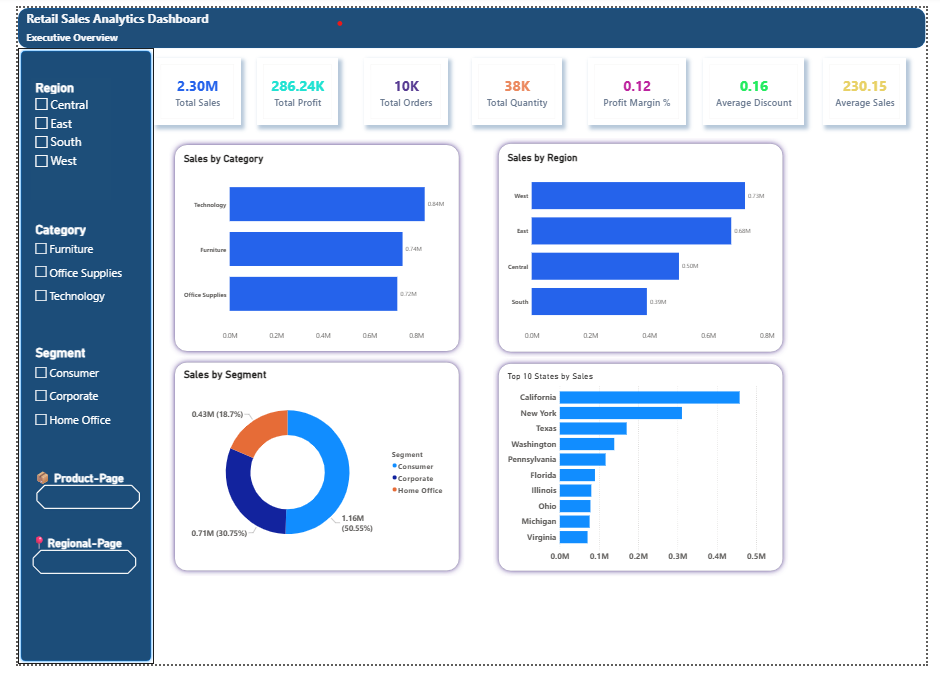

Layout of this report page (visuals, bound fields, positions):
{"tool":"powerbi","page":{"name":"🏠 Executive Overview","canvas":[2420,1750],"ordinal":0},"visuals":[{"type":"shape","box":[0,107.5,362.5,1642.5],"z":0},{"type":"shape","box":[0,0,2420,107.5],"z":1000},{"type":"textbox","box":[17.1,0,511.4,58.6],"z":2000},{"type":"textbox","box":[17.1,54.3,262.9,50],"z":3000},{"type":"cardVisual","fields":{"Data":["Retail Sales.Total Sales"]},"box":[362.5,132.5,230,180],"z":4000},{"type":"cardVisual","fields":{"Data":["Retail Sales.Total Profit"]},"box":[637.5,132.5,217.5,180],"z":5000},{"type":"cardVisual","fields":{"Data":["Retail Sales.Profit Margin %"]},"box":[1520,132.5,260,180],"z":6000},{"type":"cardVisual","fields":{"Data":["Retail Sales.Total Quantity"]},"box":[1210,132.5,240,180],"z":7000},{"type":"cardVisual","fields":{"Data":["Retail Sales.Total Orders"]},"box":[922.5,132.5,222.5,180],"z":8000},{"type":"cardVisual","fields":{"Data":["Retail Sales.Average Sales"]},"box":[2147.5,132.5,222.5,180],"z":9000},{"type":"cardVisual","fields":{"Data":["Retail Sales.Average Discount"]},"box":[1825,132.5,270,180],"z":10000},{"type":"shape","box":[402.5,350,787.5,580],"z":11000},{"type":"clusteredBarChart","title":"Sales by Category","fields":{"Y":["Retail Sales.Total Sales"],"Category":["Retail Sales.Category"]},"box":[435,385,725,510],"z":12000},{"type":"shape","box":[1265,347.5,787.5,585],"z":13000},{"type":"shape","box":[402.5,930,787.5,585],"z":14000},{"type":"shape","box":[1267.5,932.5,787.5,582.5],"z":15000},{"type":"clusteredBarChart","title":"Sales by Region","fields":{"Y":["Retail Sales.Total Sales"],"Category":["Retail Sales.Region"]},"box":[1300,382.5,722.5,512.5],"z":16000},{"type":"donutChart","title":"Sales by Segment","fields":{"Category":["Retail Sales.Segment"],"Y":["Retail Sales.Total Sales"]},"box":[435,960,710,525],"z":17000},{"type":"clusteredBarChart","title":"Top 10 States by Sales","fields":{"Category":["Retail Sales.State"],"Y":["Retail Sales.Total Sales"]},"box":[1300,965,700,520],"z":18000},{"type":"slicer","fields":{"Values":["Retail Sales.Region"]},"box":[32.5,187.5,215,325],"z":18001},{"type":"slicer","fields":{"Values":["Retail Sales.Category"]},"box":[32.5,562.5,297.5,332.5],"z":18002},{"type":"slicer","fields":{"Values":["Retail Sales.Segment"]},"box":[32.5,892.5,297.5,332.5],"z":18003},{"type":"actionButton","title":"📦 Product-Page","box":[42.5,1225,287.5,115],"z":18006},{"type":"actionButton","title":"📍Regional-Page","box":[32.5,1400,287.5,115],"z":18008}]}

Visuals, with their boxes in screenshot pixels (x1, y1, x2, y2), scaled from the page's 2420x1750 canvas onto the 940x675 screenshot:
shape: box=[0, 41, 141, 674]
shape: box=[0, 0, 939, 41]
textbox: box=[7, 0, 205, 23]
textbox: box=[7, 21, 109, 40]
cardVisual - Retail Sales.Total Sales: box=[141, 51, 230, 121]
cardVisual - Retail Sales.Total Profit: box=[248, 51, 332, 121]
cardVisual - Retail Sales.Profit Margin %: box=[590, 51, 691, 121]
cardVisual - Retail Sales.Total Quantity: box=[470, 51, 563, 121]
cardVisual - Retail Sales.Total Orders: box=[358, 51, 445, 121]
cardVisual - Retail Sales.Average Sales: box=[834, 51, 921, 121]
cardVisual - Retail Sales.Average Discount: box=[709, 51, 814, 121]
shape: box=[156, 135, 462, 359]
"Sales by Category" clusteredBarChart: box=[169, 148, 451, 345]
shape: box=[491, 134, 797, 360]
shape: box=[156, 359, 462, 584]
shape: box=[492, 360, 798, 584]
"Sales by Region" clusteredBarChart: box=[505, 148, 786, 345]
"Sales by Segment" donutChart: box=[169, 370, 445, 573]
"Top 10 States by Sales" clusteredBarChart: box=[505, 372, 777, 573]
slicer - Retail Sales.Region: box=[13, 72, 96, 198]
slicer - Retail Sales.Category: box=[13, 217, 128, 345]
slicer - Retail Sales.Segment: box=[13, 344, 128, 472]
"📦 Product-Page" actionButton: box=[17, 472, 128, 517]
"📍Regional-Page" actionButton: box=[13, 540, 124, 584]
